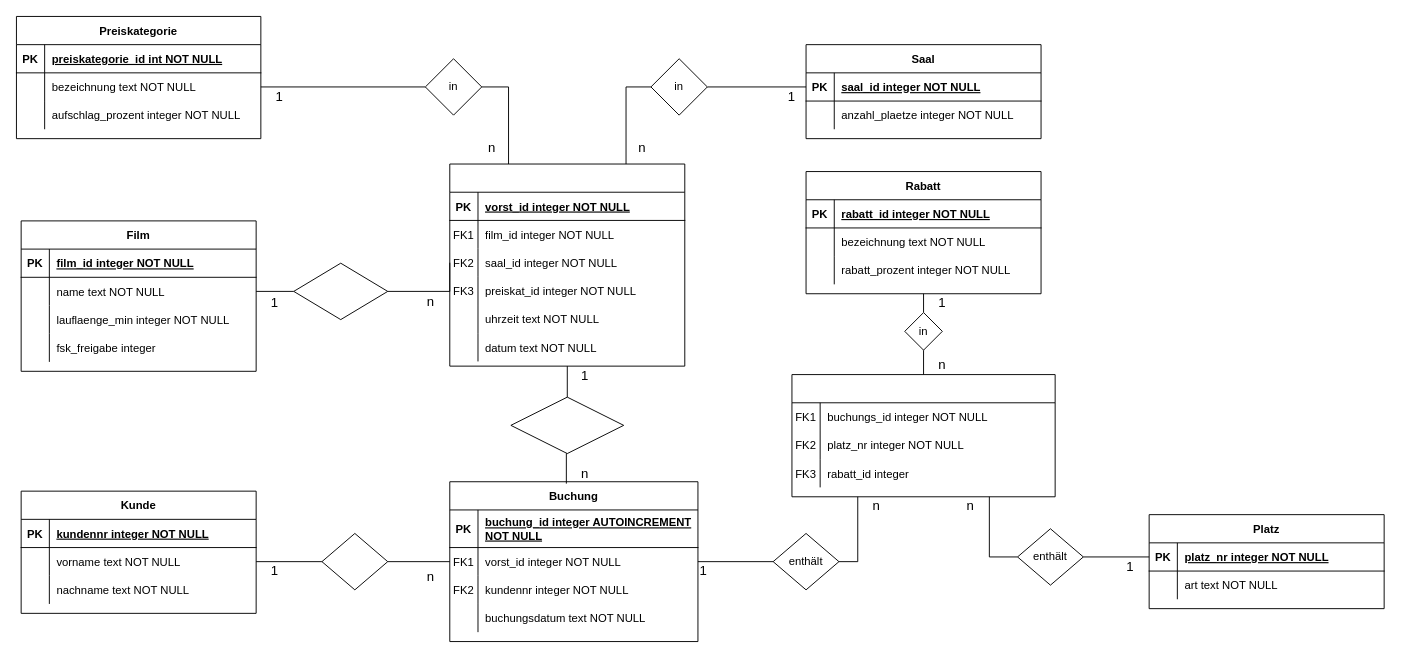
This 1401x658 diagram has some shape labels left out. Here are the shapes that lost their labels. From the top down, the box of each, then its label:
(449, 163, 685, 366): Vorstellung
(293, 262, 388, 320): gehört zu
(510, 396, 624, 454): ist enthalten in
(791, 374, 1055, 497): PlatzProBuchung
(321, 533, 388, 590): bucht
